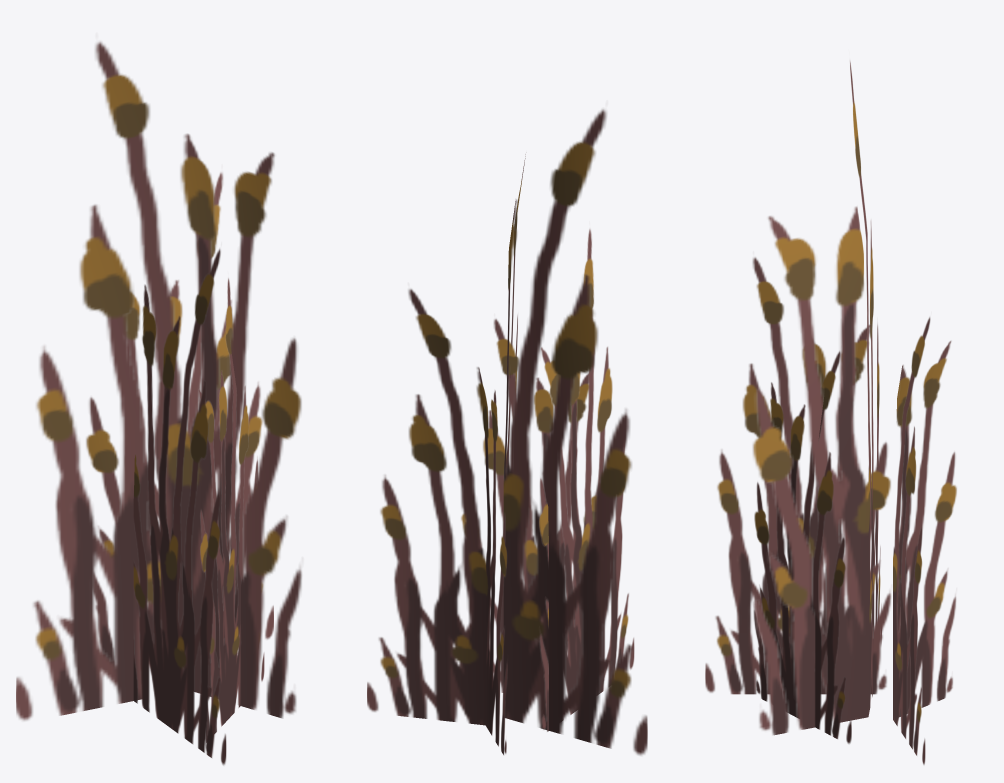
Rendered from env_grass6_painty_01_v1.glb.
3 renders of one model, left to right at view 1: azimuth 30°, elevation 25°; view 2: azimuth 150°, elevation 25°; view 3: azimuth 270°, elevation 25°, orthographic. The views are drawn at different scales.
Visible parts, largest first — view 1: grass_plane.020; view 2: grass_plane.020; view 3: grass_plane.020.
Part boxes in pixels (bbox=[...]): grass_plane.020: bbox=[16, 41, 301, 765]; grass_plane.020: bbox=[367, 109, 647, 755]; grass_plane.020: bbox=[705, 61, 956, 764].
Bounding box in the file's own units: 0.5483 × 1.19 × 0.4933.
Materials: 1 (1 with a texture image).
